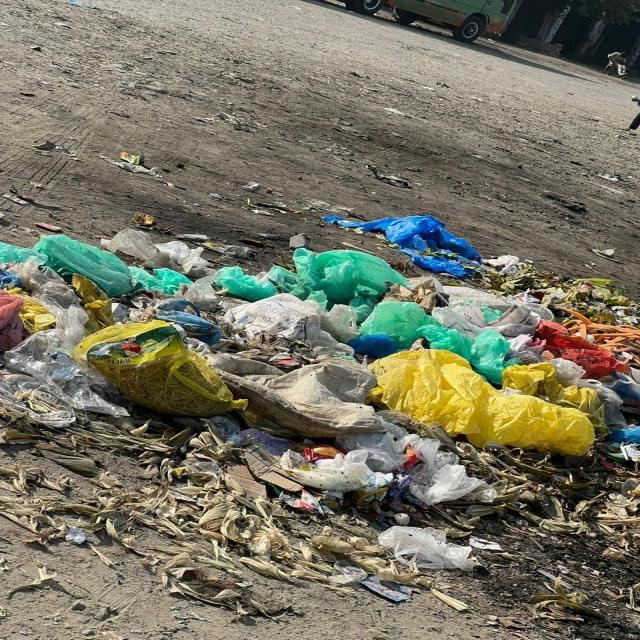garbage: (18, 232, 640, 584)
